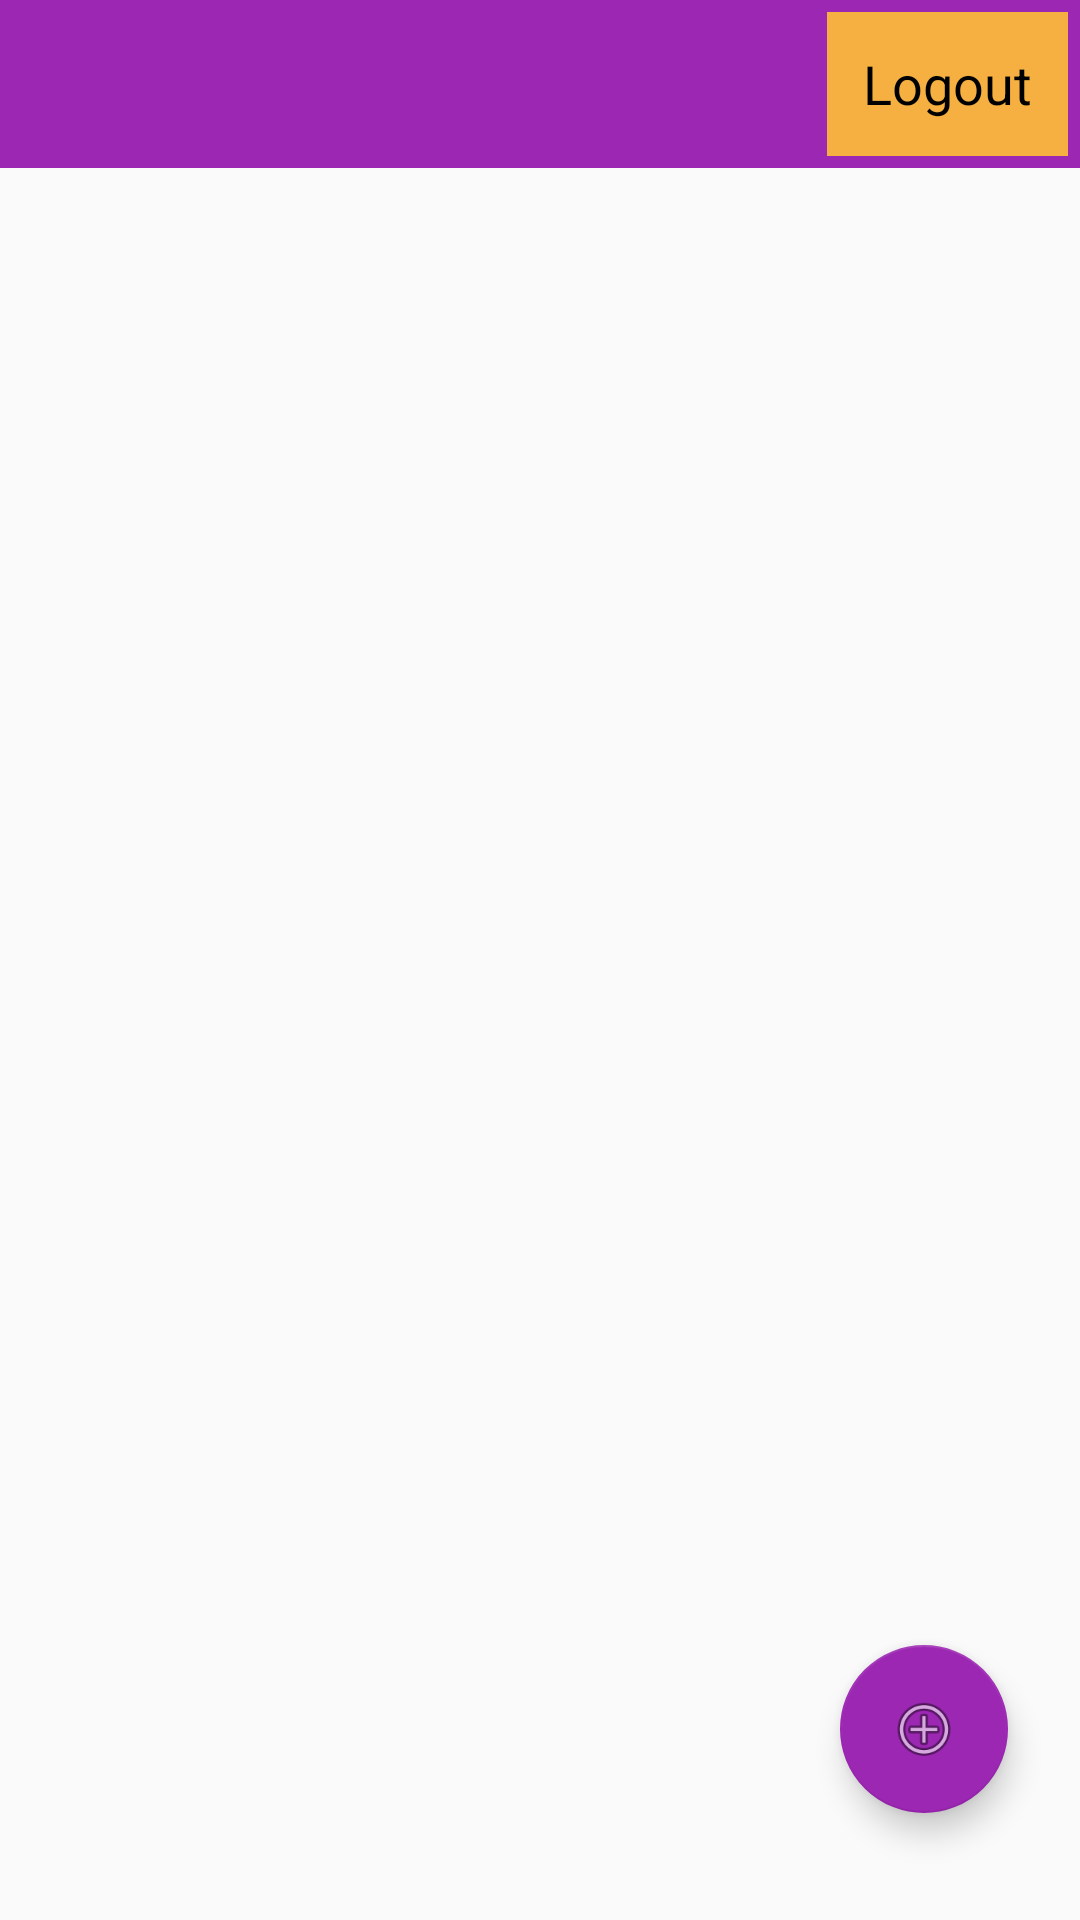

Icons on this 1080x1920 Android screen, each with its box as box=[x1, y1, x2, y2]:
add: box=[840, 1645, 1008, 1813]
